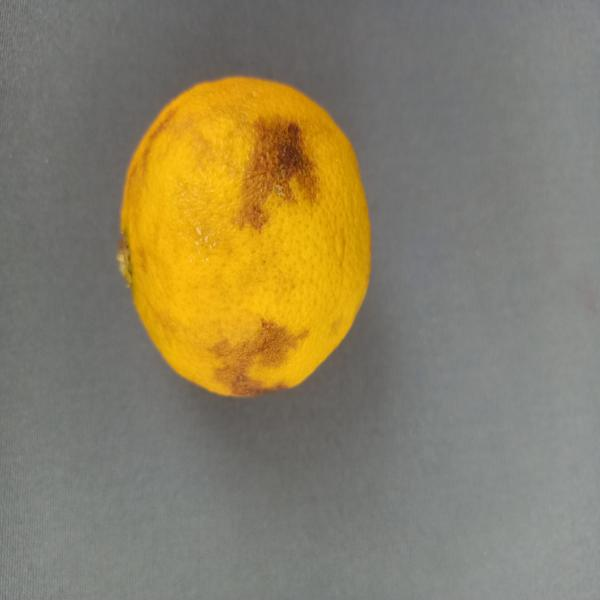Scab: (103, 62, 380, 412)
